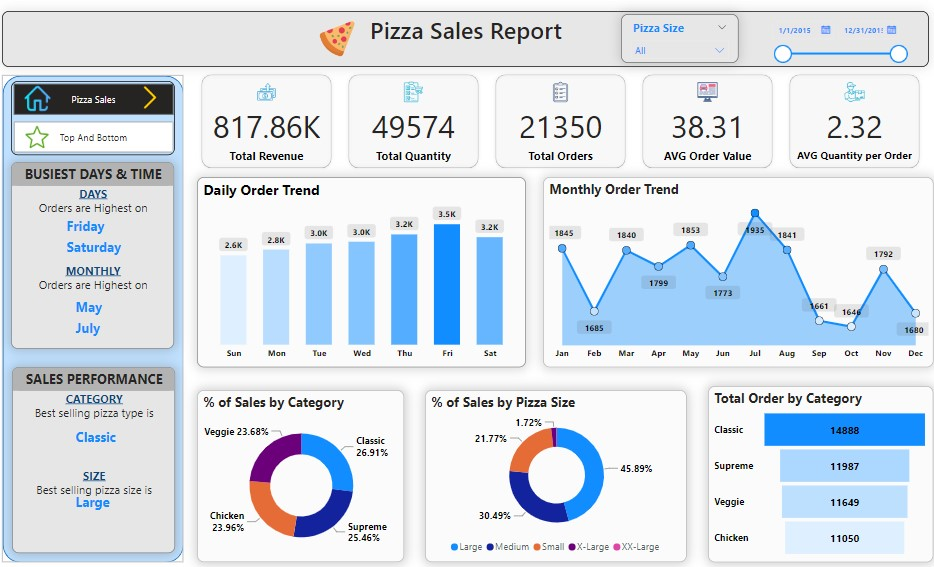

What the dashboard file says about the page in this screenshot:
{"tool":"powerbi","page":{"name":"Pizza Sales","canvas":[1350,820],"ordinal":0},"visuals":[{"type":"cardVisual","fields":{"Data":["pizza_sales.Total Revenue","pizza_sales.Total Quantity","pizza_sales.Total Orders","pizza_sales.AVG Order Value","pizza_sales.AVG Quantity per Order"]},"box":[285,100,1051.7,158.3],"z":0},{"type":"textbox","title":"Pizza Sales Report","box":[13,21.1,1323.6,79.7],"z":1000},{"type":"columnChart","title":"Daily Order Trend","fields":{"Y":["pizza_sales.Total Orders"],"Category":["Date Table.Day Name"]},"box":[291.2,259,469.9,271.5],"z":2000},{"type":"areaChart","title":"Monthly Order Trend","fields":{"Category":["Date Table.Month"],"Y":["pizza_sales.Total Orders"]},"box":[785.5,259,557.7,271.5],"z":3000},{"type":"donutChart","title":"% of Sales by Category","fields":{"Category":["DimCatergory.pizza_category"],"Y":["pizza_sales.Total Revenue"]},"box":[291.2,563.1,295.9,245.5],"z":4000},{"type":"donutChart","title":"% of Sales by Pizza Size","fields":{"Y":["pizza_sales.Total Revenue"],"Category":["DimPizzaSize.pizza_size_Name"]},"box":[617.2,563.1,374,245.5],"z":5000},{"type":"funnel","title":"Total Order by Category","fields":{"Y":["pizza_sales.Total Quantity"],"Category":["DimCatergory.pizza_category"]},"box":[1021.3,556.6,322,252],"z":6000},{"type":"shape","box":[12.9,112.9,258.6,695.7],"z":7000},{"type":"pageNavigator","box":[26,122,234.1,105.7],"z":8000},{"type":"image","box":[455,30,71.7,61.7],"z":9000},{"type":"textbox","title":"BUSIEST DAYS & TIME","box":[25.7,237.1,232.9,267.1],"z":10000},{"type":"textbox","title":"SALES PERFORMANCE","box":[27.1,530,232.9,265.7],"z":11000},{"type":"multiRowCard","fields":{"Values":["Date Table.Month Name Long"]},"box":[112.9,425.7,98.6,94.3],"z":12000},{"type":"multiRowCard","fields":{"Values":["Date Table.Day Name Long"]},"box":[100,310,124.3,71.4],"z":13000},{"type":"slicer","fields":{"Values":["DimPizzaSize.pizza_size_Name"]},"box":[897.5,26.2,167.5,70],"z":14000},{"type":"slicer","fields":{"Values":["Date Table.Date"]},"box":[1100,25,215,88.3],"z":15000},{"type":"multiRowCard","fields":{"Values":["DimCatergory.pizza_category"]},"box":[113.3,611.7,125,51.7],"z":16000},{"type":"multiRowCard","fields":{"Values":["DimPizzaSize.pizza_size_Name"]},"box":[112.9,704.3,82.9,51.4],"z":17000},{"type":"image","box":[203.3,121.7,43.3,46.7],"z":18000},{"type":"image","box":[26.7,123.3,73.3,46.7],"z":19000},{"type":"image","box":[41.7,180,43.3,43.3],"z":20000}]}

Visuals, with their boxes in screenshot pixels (x1, y1, x2, y2), scaled from the page's 1350x820 canvas onto the 934x567 screenshot:
cardVisual - pizza_sales.Total Revenue x pizza_sales.Total Quantity: box=[197, 69, 925, 179]
"Pizza Sales Report" textbox: box=[9, 15, 925, 70]
"Daily Order Trend" columnChart: box=[201, 179, 527, 367]
"Monthly Order Trend" areaChart: box=[543, 179, 929, 367]
"% of Sales by Category" donutChart: box=[201, 389, 406, 559]
"% of Sales by Pizza Size" donutChart: box=[427, 389, 686, 559]
"Total Order by Category" funnel: box=[707, 385, 929, 559]
shape: box=[9, 78, 188, 559]
pageNavigator: box=[18, 84, 180, 157]
image: box=[315, 21, 364, 63]
"BUSIEST DAYS & TIME" textbox: box=[18, 164, 179, 349]
"SALES PERFORMANCE" textbox: box=[19, 366, 180, 550]
multiRowCard - Date Table.Month Name Long: box=[78, 294, 146, 360]
multiRowCard - Date Table.Day Name Long: box=[69, 214, 155, 264]
slicer - DimPizzaSize.pizza_size_Name: box=[621, 18, 737, 67]
slicer - Date Table.Date: box=[761, 17, 910, 78]
multiRowCard - DimCatergory.pizza_category: box=[78, 423, 165, 459]
multiRowCard - DimPizzaSize.pizza_size_Name: box=[78, 487, 135, 523]
image: box=[141, 84, 171, 116]
image: box=[18, 85, 69, 118]
image: box=[29, 124, 59, 154]
